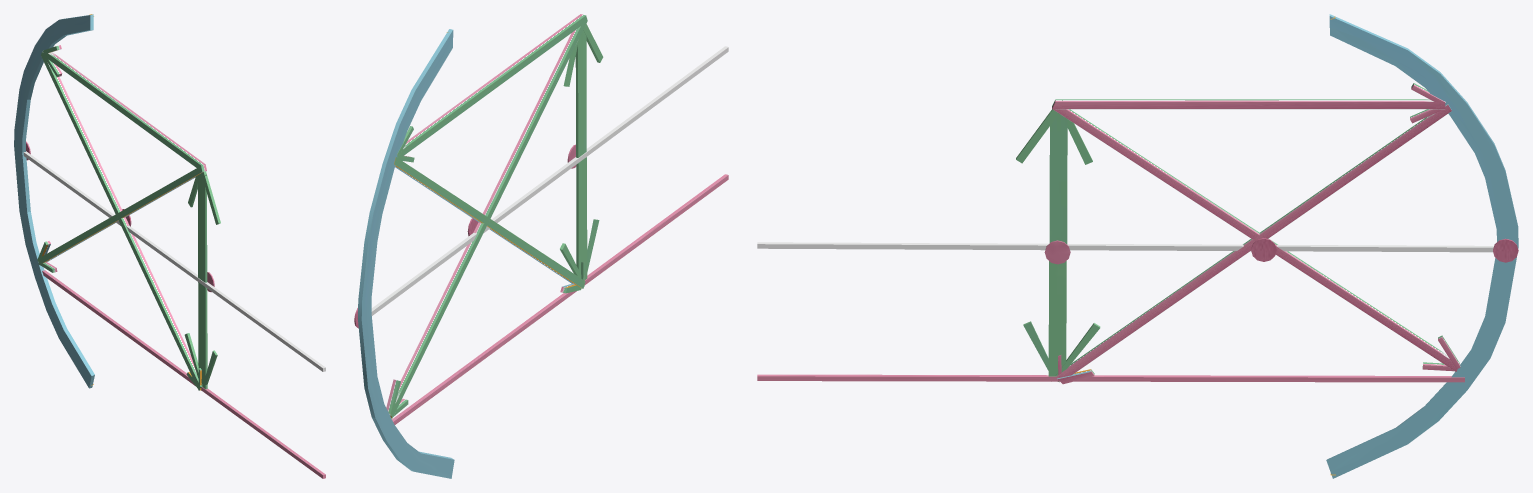
Rendered from case3.fbx.
3 views of the same model, side by side, from view 1: azimuth 30°, elevation 25°; view 2: azimuth 150°, elevation 25°; view 3: azimuth 270°, elevation 25° (orthographic). The views are drawn at different scales.
Parts seen in each view (by area): view 1: case3; view 2: case3; view 3: case3.
Part boxes in pixels (x1=…): case3: x1=14, y1=14, x2=325, y2=478; case3: x1=354, y1=14, x2=728, y2=478; case3: x1=757, y1=14, x2=1518, y2=478.
Size of the model in its own units: 1.02 by 38.58 by 57.49.
Materials: 1 (1 with a texture image).
